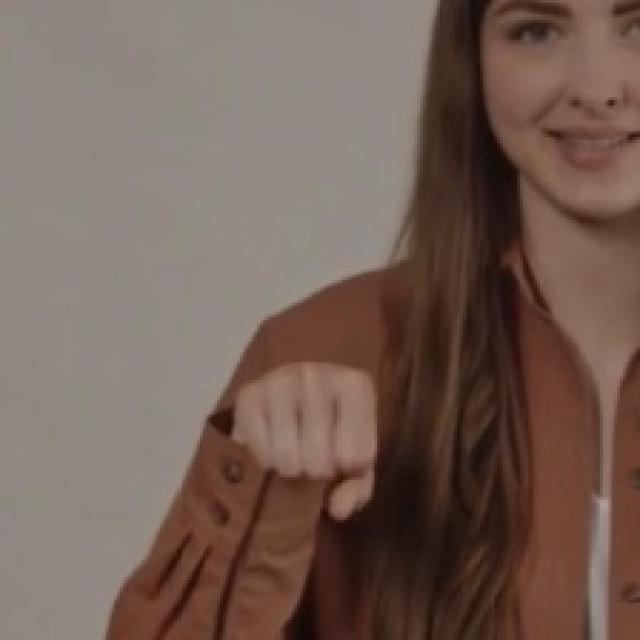yes: (226, 352, 389, 526)
